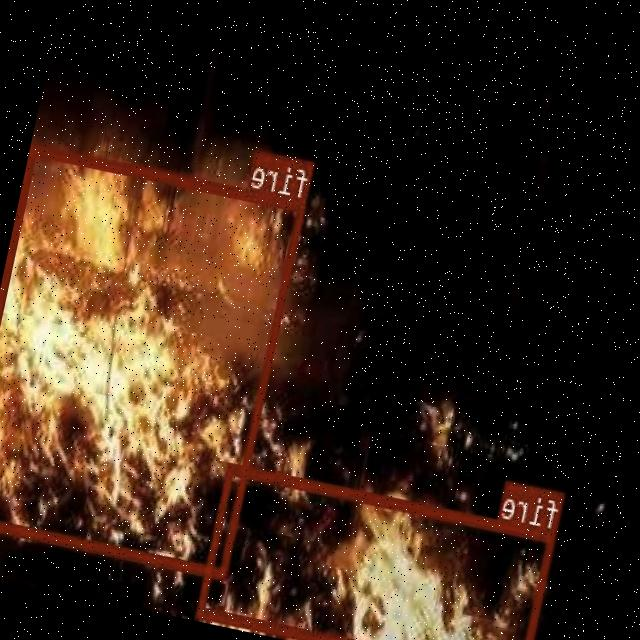fire: (0, 142, 307, 577), (196, 460, 557, 640)
